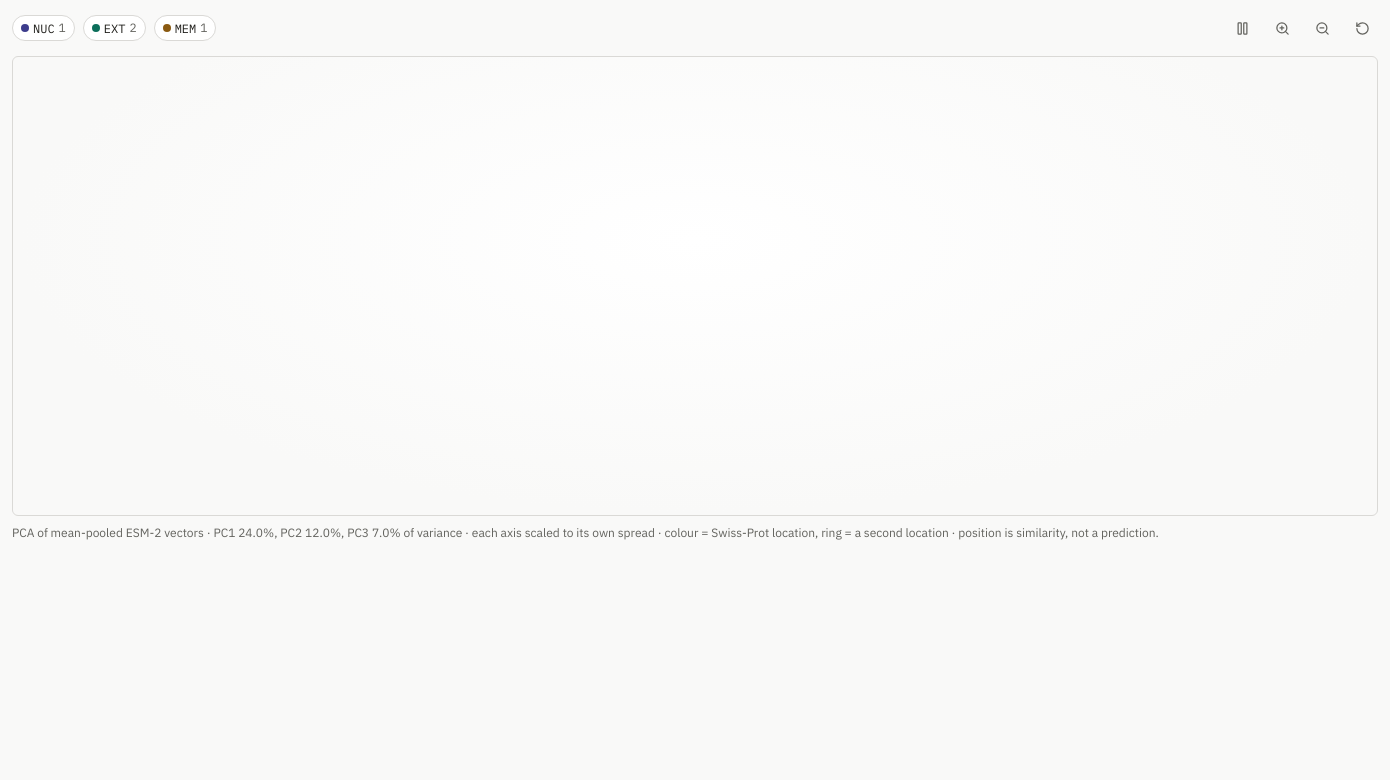
Test: ProteinSpace › filters by compartment and offers to show all again
Click the button "EXT 2". click: click(114, 28)
box: [83,15,146,41]
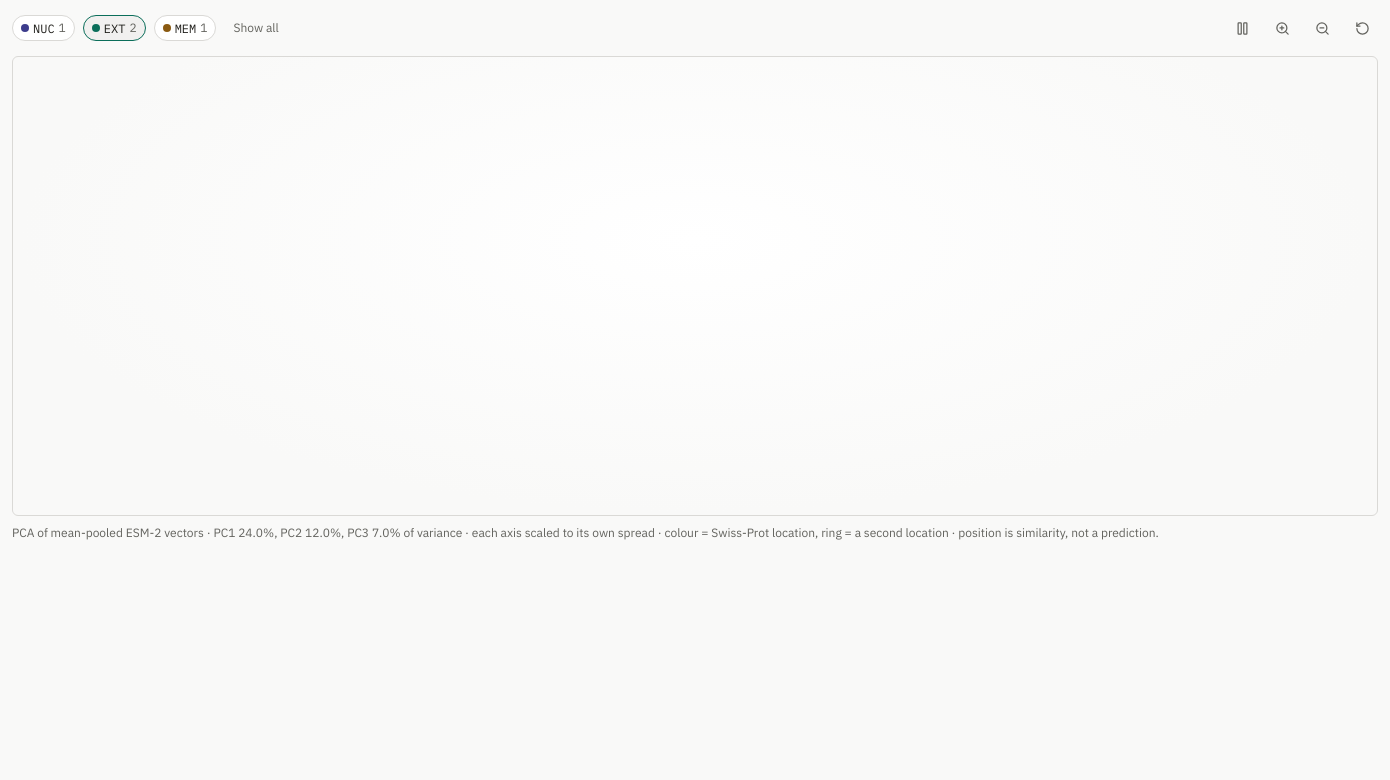
Expected: the button "EXT 2" is pressed, [83,15,146,41]
Click the button "Show all". click: click(256, 28)
box: [224,14,288,42]
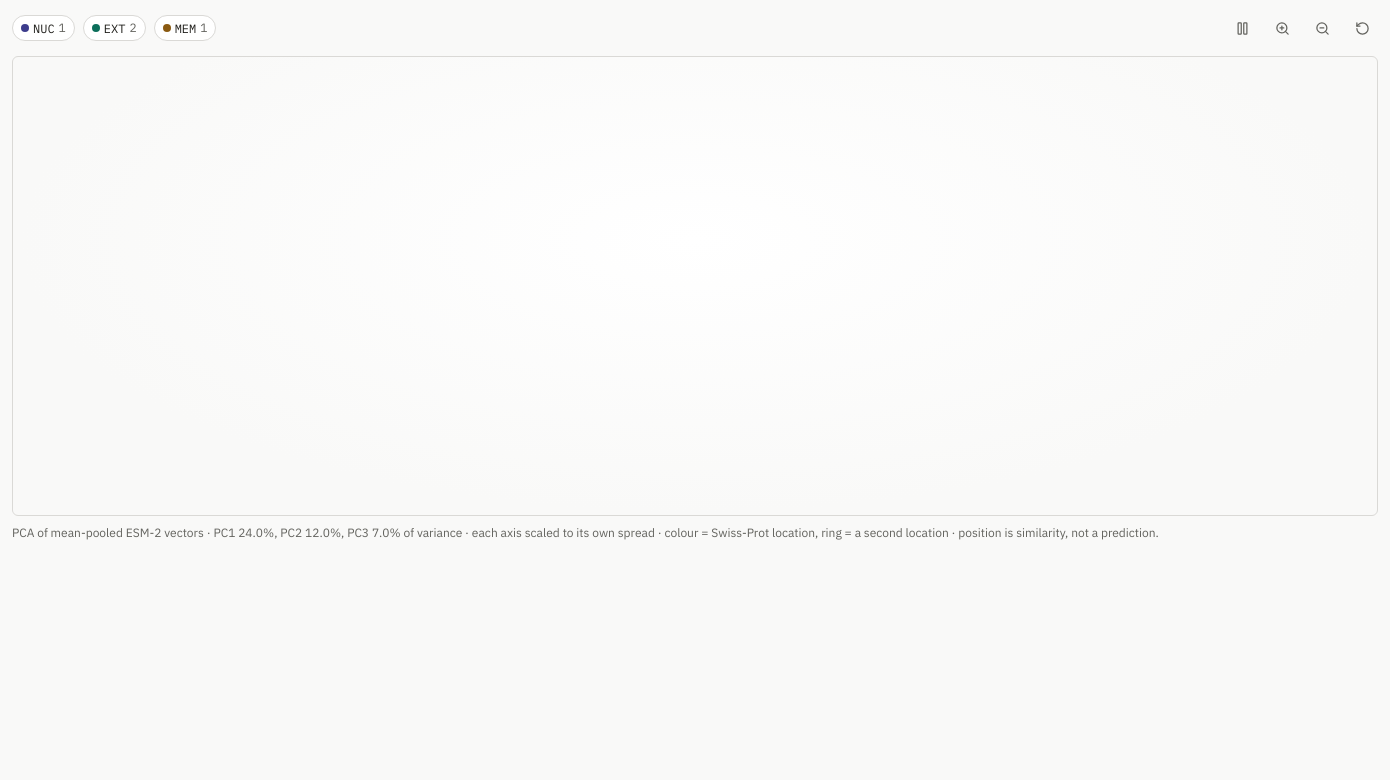
Expected: the button "Show all" is gone
